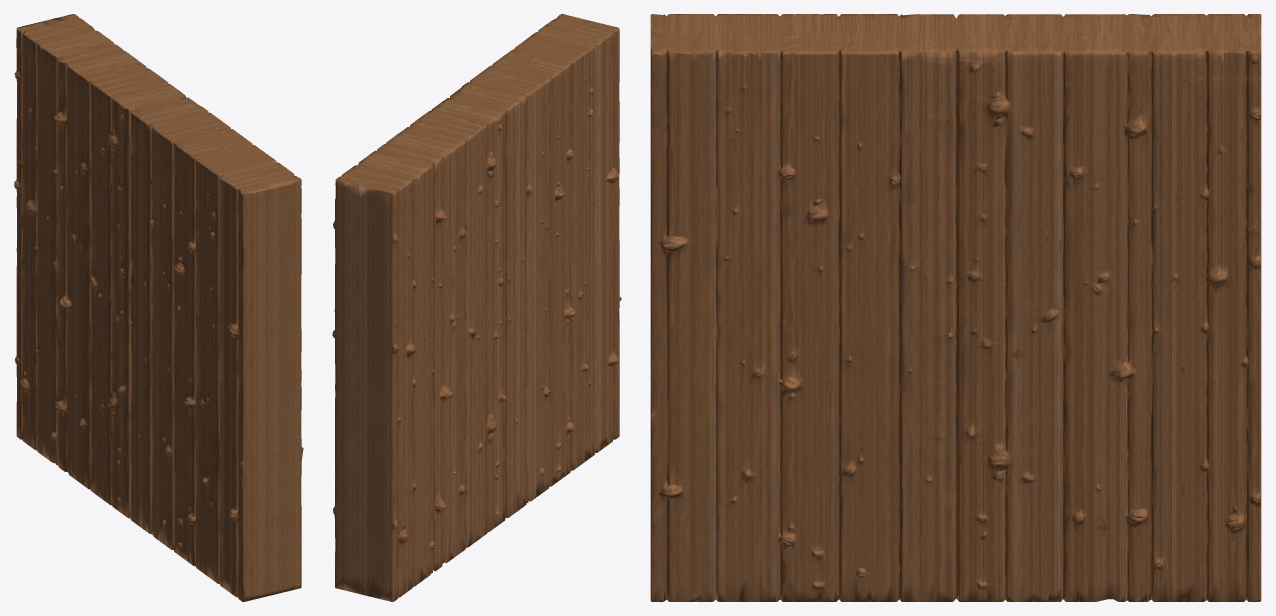
File: wooden+wall+1.glb
3 views of the same model, side by side, from view 1: azimuth 30°, elevation 25°; view 2: azimuth 150°, elevation 25°; view 3: azimuth 270°, elevation 25° (orthographic). The views are drawn at different scales.
Parts seen in each view (by area): view 1: tripo_node_3bdff9b0-22d2-4433-865f-453bf4ce05dd; view 2: tripo_node_3bdff9b0-22d2-4433-865f-453bf4ce05dd; view 3: tripo_node_3bdff9b0-22d2-4433-865f-453bf4ce05dd.
Part boxes in pixels (x1,y1,x2,y2): tripo_node_3bdff9b0-22d2-4433-865f-453bf4ce05dd: (14,14,303,601); tripo_node_3bdff9b0-22d2-4433-865f-453bf4ce05dd: (332,14,621,601); tripo_node_3bdff9b0-22d2-4433-865f-453bf4ce05dd: (650,14,1261,601).
Size of the model in its own units: 0.1875 by 0.9726 by 0.9782.
1 material, 1 textured.
